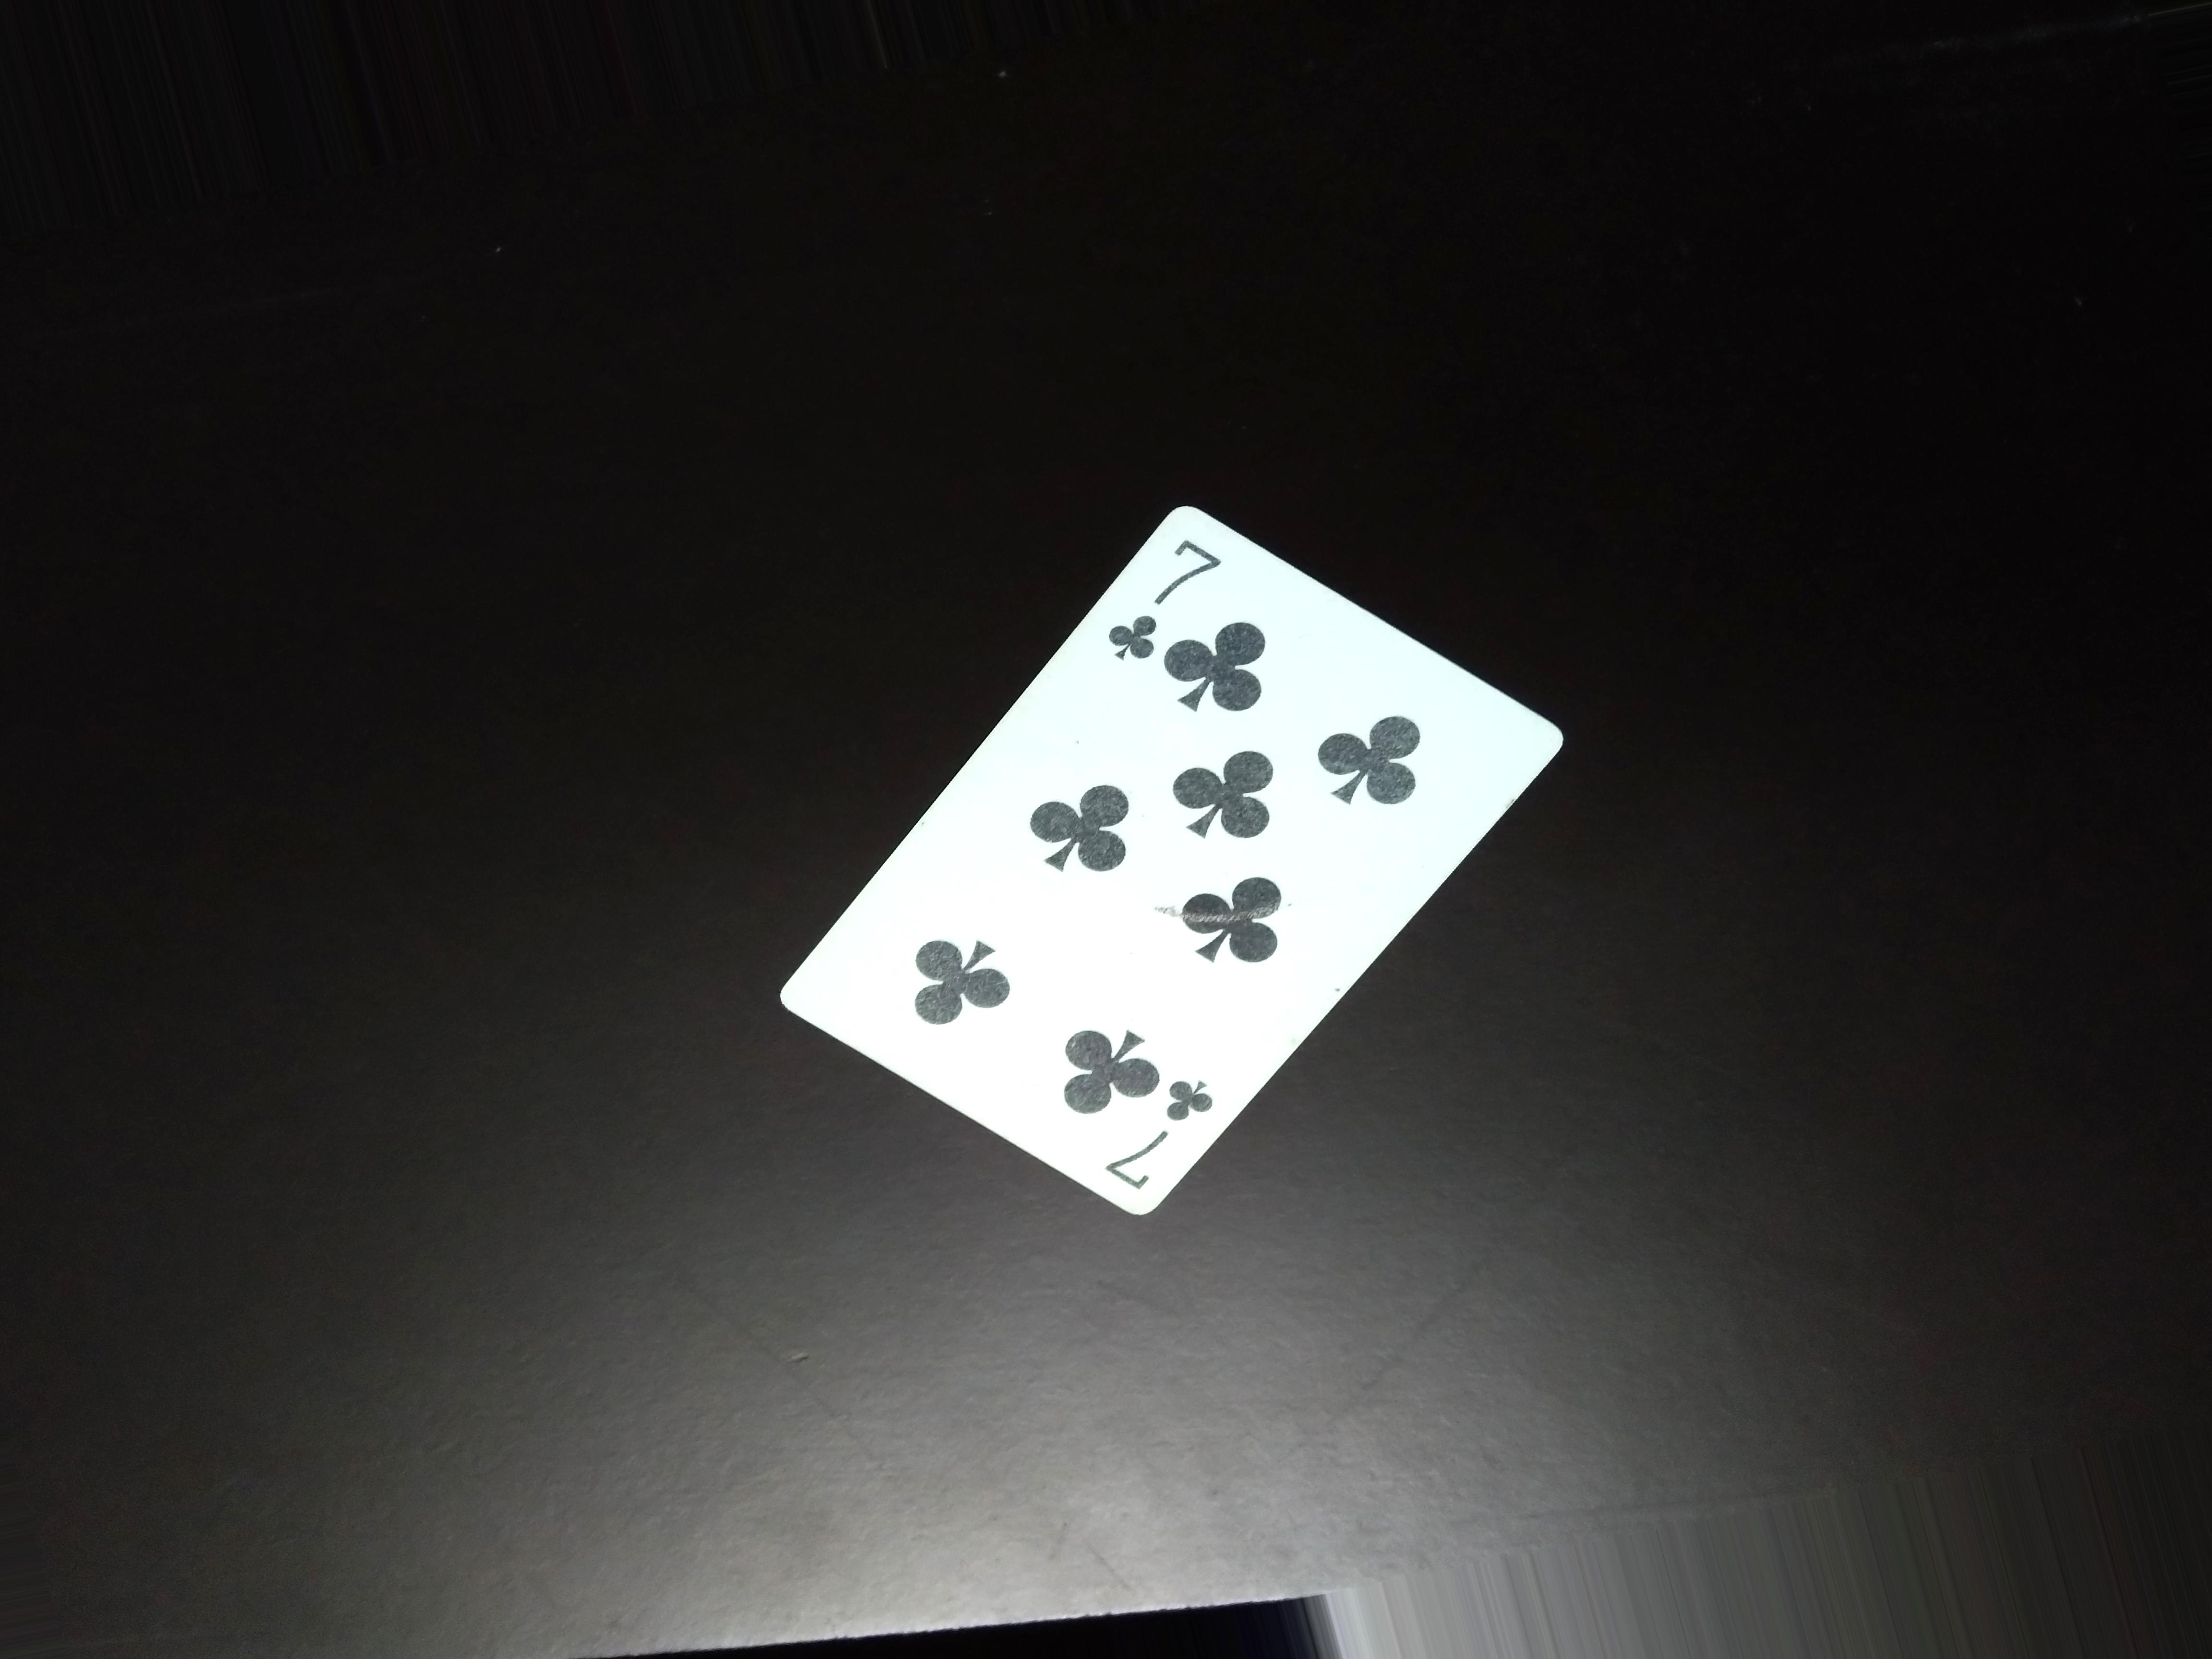7C: (1099, 504, 1233, 681)
